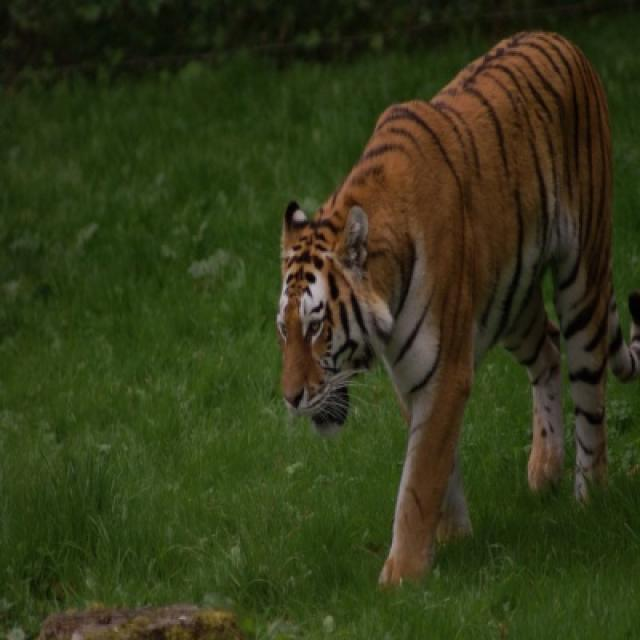Tiger: (285, 35, 638, 583)
